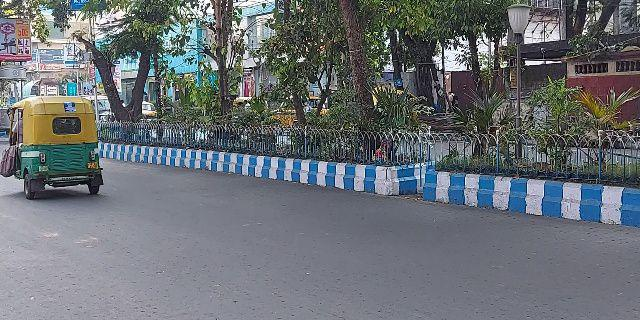Autorickshaw: (2, 94, 106, 201)
